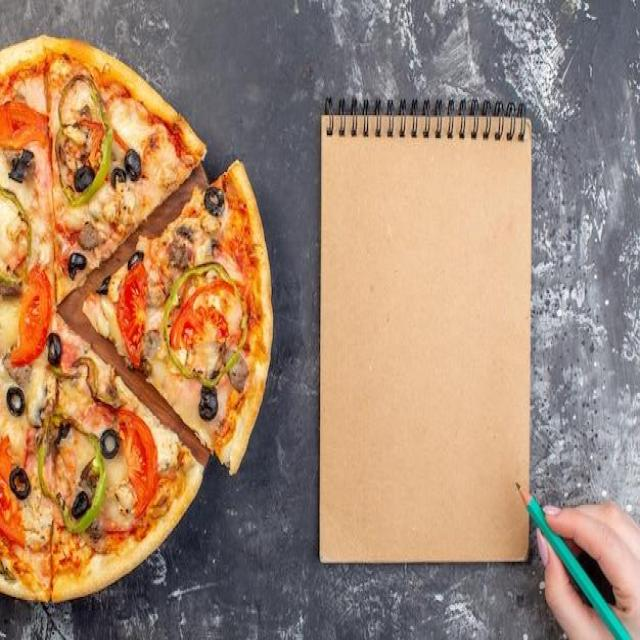olive: (9, 148, 34, 185), (10, 466, 30, 499), (199, 387, 218, 420), (204, 188, 226, 216), (6, 386, 26, 416), (74, 167, 96, 193), (101, 429, 119, 459), (125, 150, 141, 182), (48, 332, 62, 367), (69, 253, 87, 280), (71, 492, 89, 518), (111, 167, 126, 191), (127, 251, 144, 271), (95, 274, 111, 294)
pizza: (0, 33, 208, 606), (81, 162, 272, 476)
